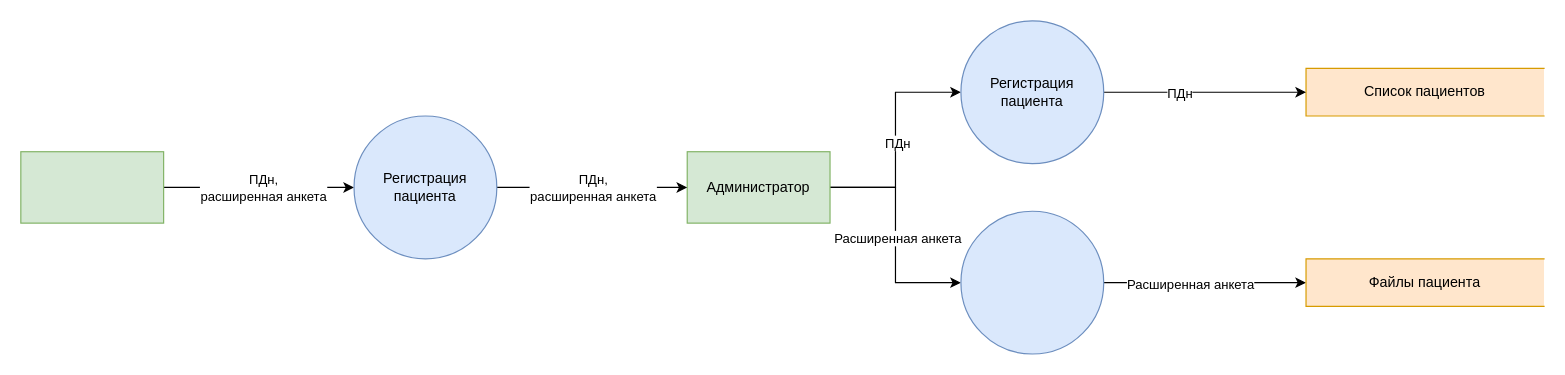
Image size: 1565x375. Some labels were removed from this diagram. The box of each missing label's shape, as (x1, y1, x2, y2) in pixels:
Пациент: (20, 151, 164, 223)
Регистрация файлов с данными пациента: (960, 210, 1104, 354)
